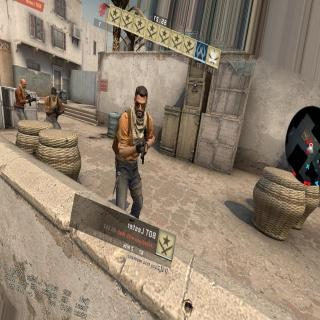T-Body: (110, 82, 158, 243), (44, 86, 64, 137), (15, 78, 32, 118)
T-Head: (133, 82, 147, 119), (20, 79, 28, 89), (50, 90, 57, 100)
